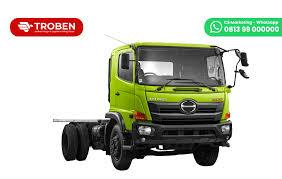truck: (103, 41, 254, 155)
